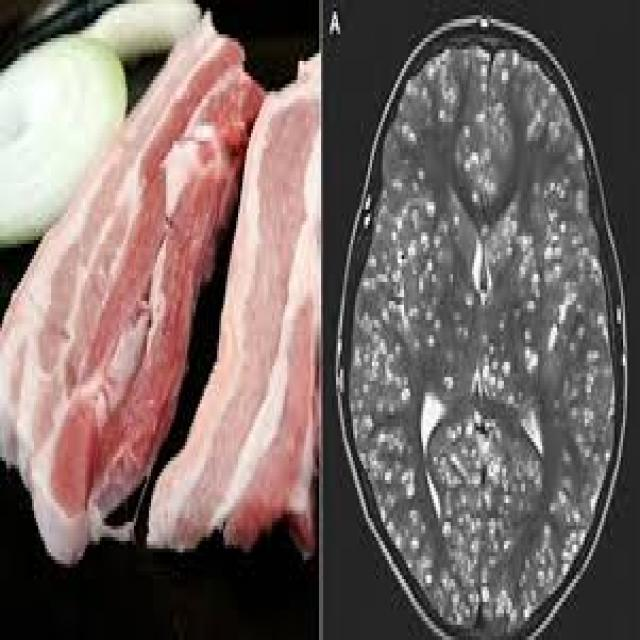Pork: (0, 14, 264, 564)
